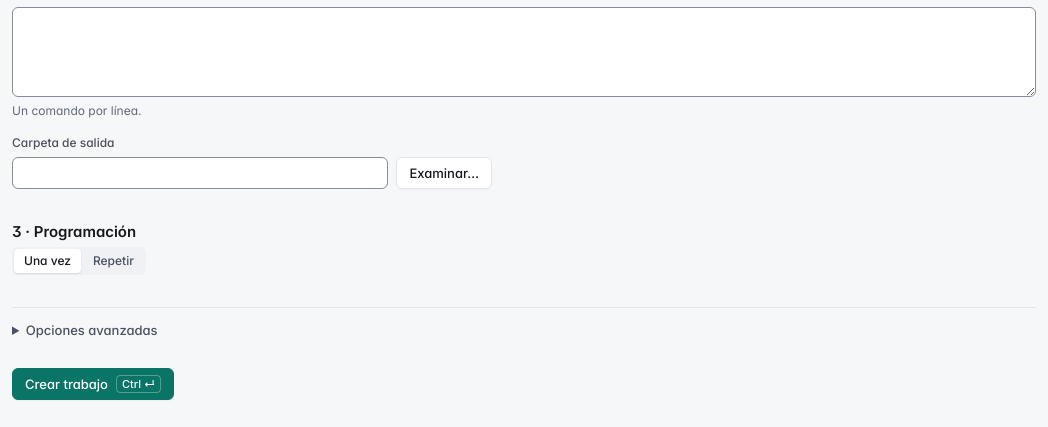
Scenario: no crea el trabajo si faltan datos y dice cuáles
(page scrolled)
Step 1. Click the button "Crear trabajo Ctrl ↵" → (93, 384), box [12,368,174,400]
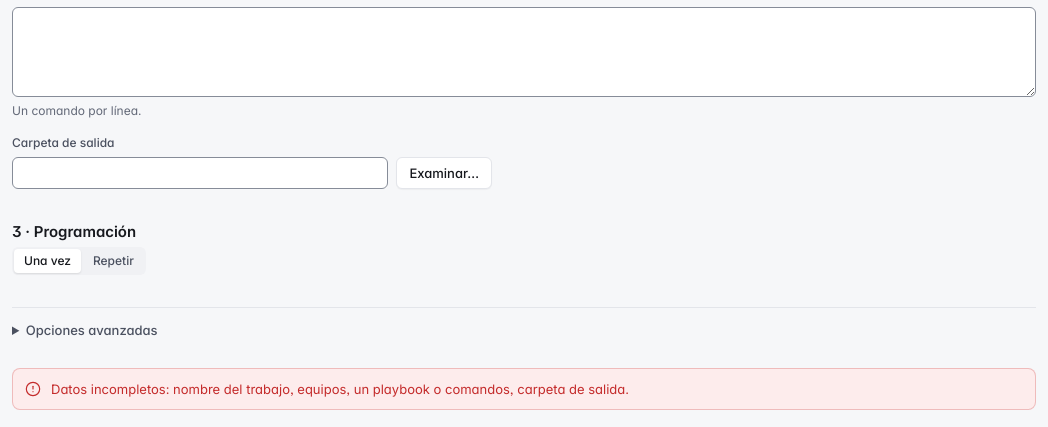
Check: the message shows "Datos incompletos: nombre del trabajo, equipos, un playbook o comandos, carpeta de salida.", box [51,381,629,397]
